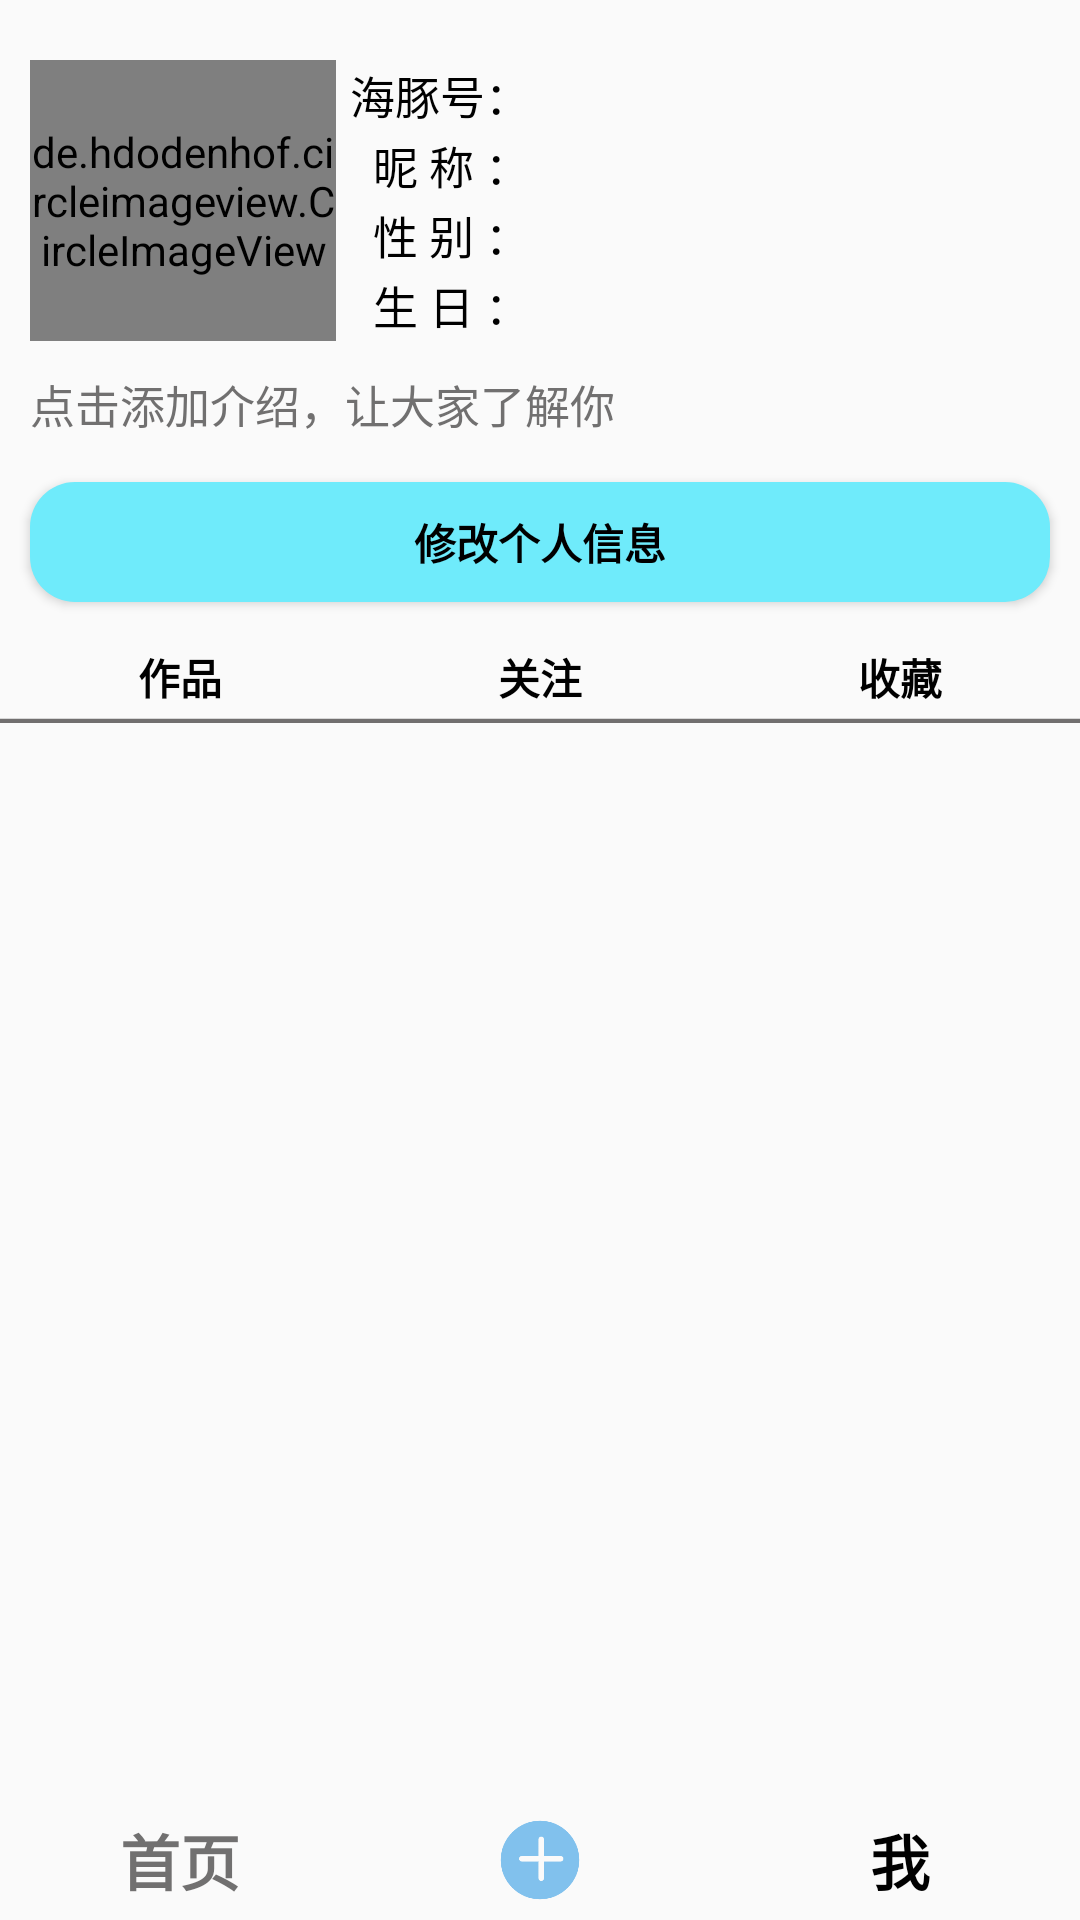

Screen size 1080px x 1920px. Icon name, then its box in pixels as (x1, y1, x2, y2):
上传视频: (501, 1821, 579, 1899)
